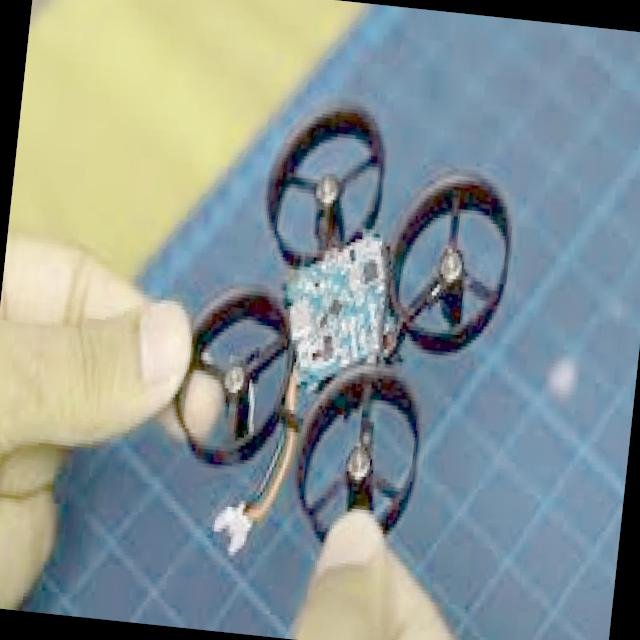drone: (160, 78, 532, 570)
